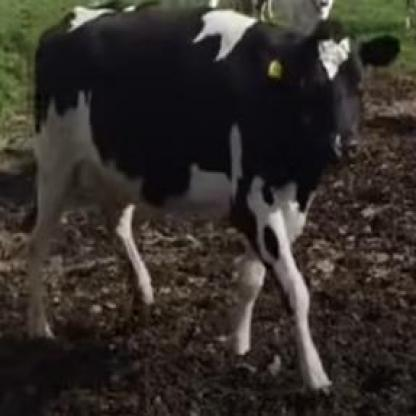cow: (30, 6, 400, 396)
